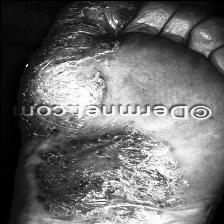Non-Cancerous Skin Condition: (34, 134, 180, 224), (14, 0, 115, 101)
